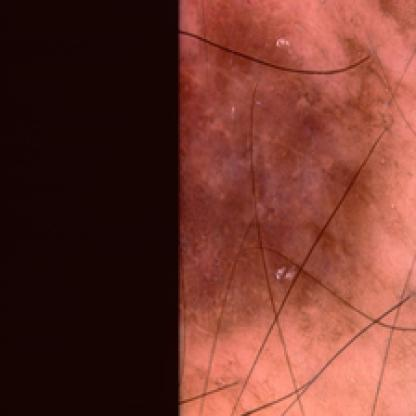malignant: (188, 63, 338, 273)
